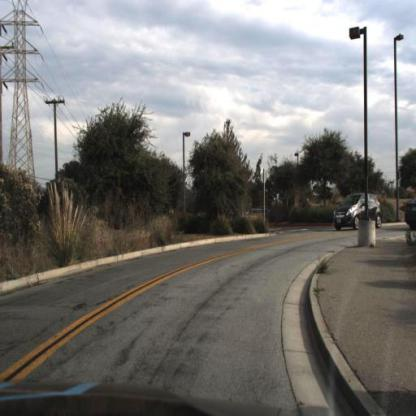car: (332, 190, 382, 233)
